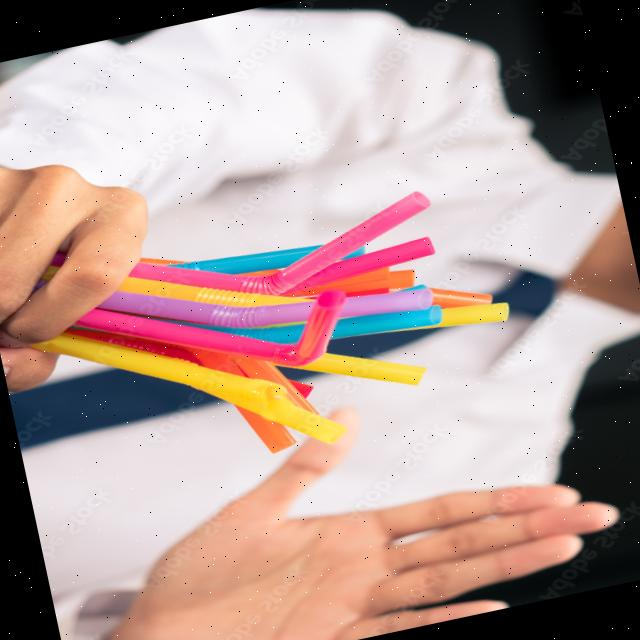plastic: (228, 170, 460, 306)
